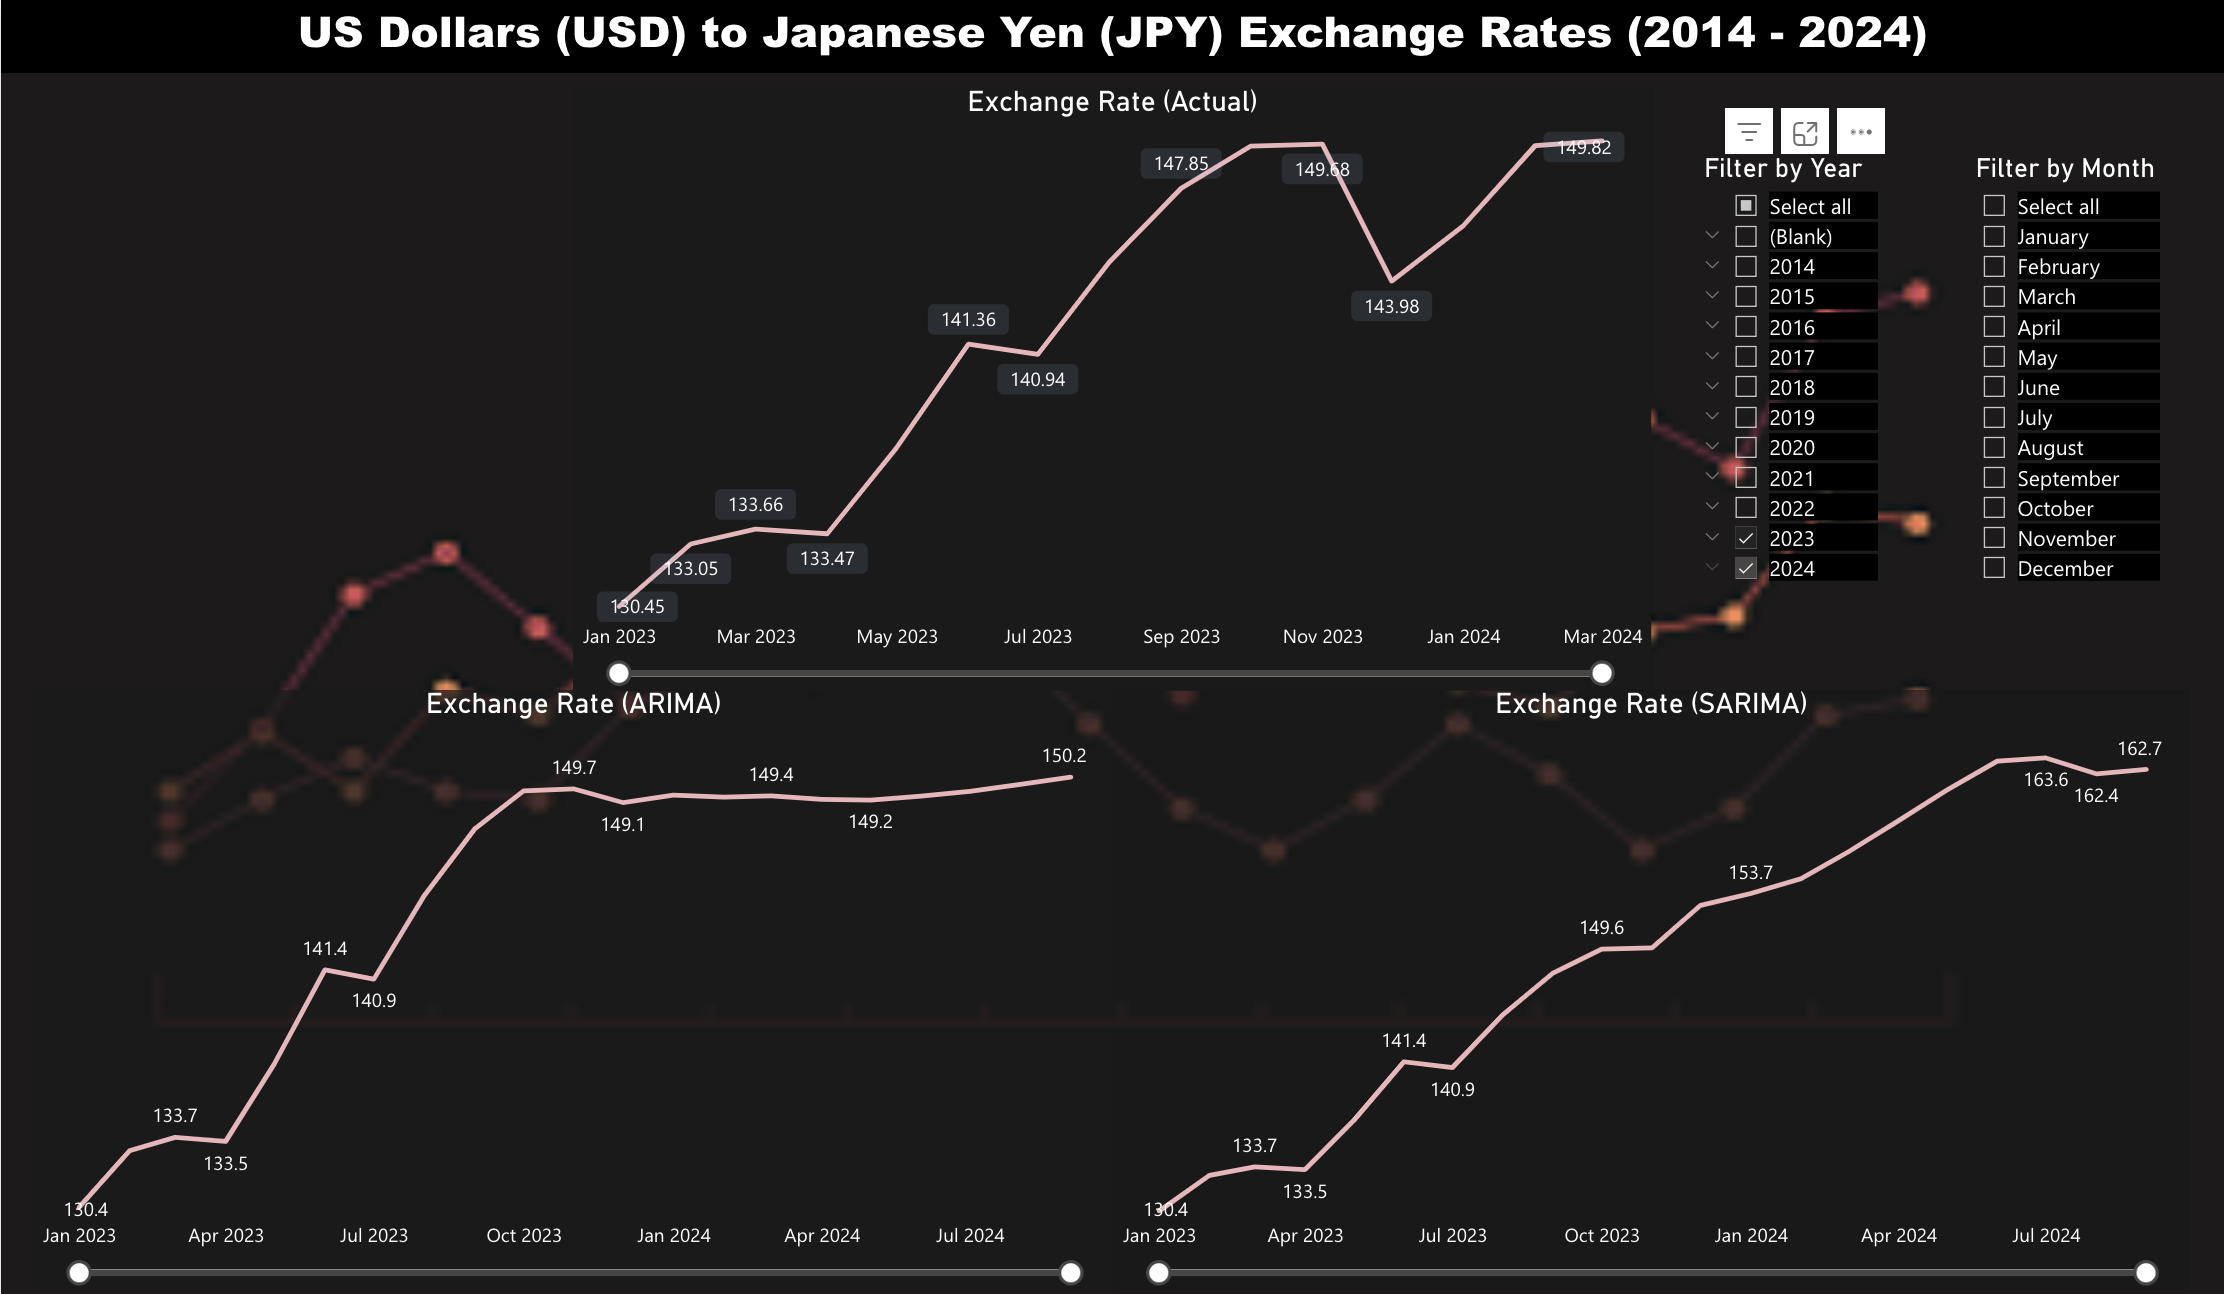

The dashboard page shown, as its layout file describes it:
{"tool":"powerbi","page":{"name":"Japan","canvas":[1400,840],"ordinal":3},"visuals":[{"type":"lineChart","title":"Exchange Rate (Actual)","fields":{"Y":["Sum(japanm.Exchange Rate)"],"Category":["japanm.Date"]},"box":[359.8,55.8,679.1,379.3],"z":0},{"type":"lineChart","title":"Exchange Rate (ARIMA)","fields":{"Y":["Sum(japan_arima_forecasts.Exchange Rate)"],"Category":["japan_arima_forecasts.Date"]},"box":[19.5,435.1,680.5,377.9],"z":1000},{"type":"lineChart","title":"Exchange Rate (SARIMA)","fields":{"Y":["Sum(japan_sarima_forecasts.Exchange Rate)"],"Category":["japan_sarima_forecasts.Date.Variation.Date Hierarchy.Year","japan_sarima_forecasts.Date.Variation.Date Hierarchy.Quarter","japan_sarima_forecasts.Date.Variation.Date Hierarchy.Month","japan_sarima_forecasts.Date.Variation.Date Hierarchy.Day"]},"box":[700,435.1,677.7,377.9],"z":2000},{"type":"textbox","title":"US Dollars (USD) to Japanese Yen (JPY) Exchange Rates (2014 - 2024)","box":[0,0,1400,46],"z":3000},{"type":"slicer","title":"Filter by Year","fields":{"Values":["japan_sarima_forecasts.Date.Variation.Date Hierarchy.Year","japan_sarima_forecasts.Date.Variation.Date Hierarchy.Quarter"]},"box":[1058.4,98.8,128.9,294.7],"z":4000},{"type":"slicer","title":"Filter by Month","fields":{"Values":["japan_sarima_forecasts.Date.Variation.Date Hierarchy.Month"]},"box":[1235.9,98.8,128.9,294.7],"z":5000}]}

Visuals, with their boxes on the page's 1400x840 design canvas (x1, y1, x2, y2). These are canvas units, not pixel positions in the 2224x1294 screenshot, which may show the page scaled, cropped or inside an application window:
"Exchange Rate (Actual)" lineChart: 360, 56, 1039, 435
"Exchange Rate (ARIMA)" lineChart: 20, 435, 700, 813
"Exchange Rate (SARIMA)" lineChart: 700, 435, 1378, 813
"US Dollars (USD) to Japanese Yen (JPY) Exchange Rates (2014 - 2024)" textbox: 0, 0, 1400, 46
"Filter by Year" slicer: 1058, 99, 1187, 394
"Filter by Month" slicer: 1236, 99, 1365, 394
